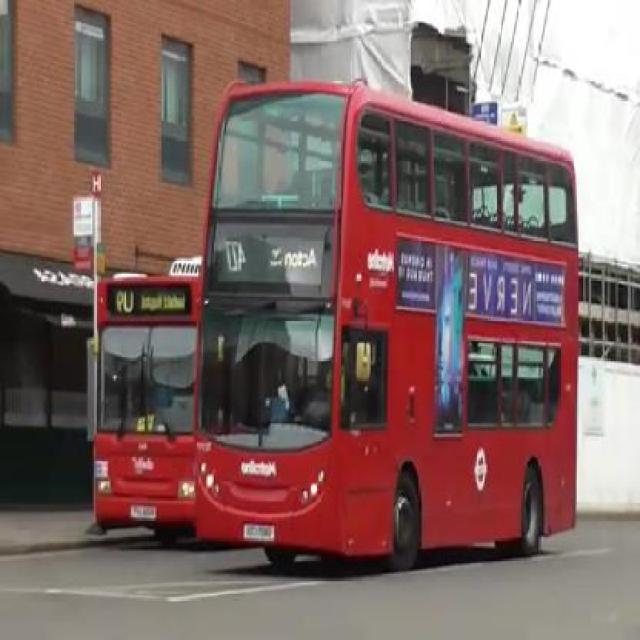bus: (196, 82, 579, 562), (92, 272, 190, 530)
